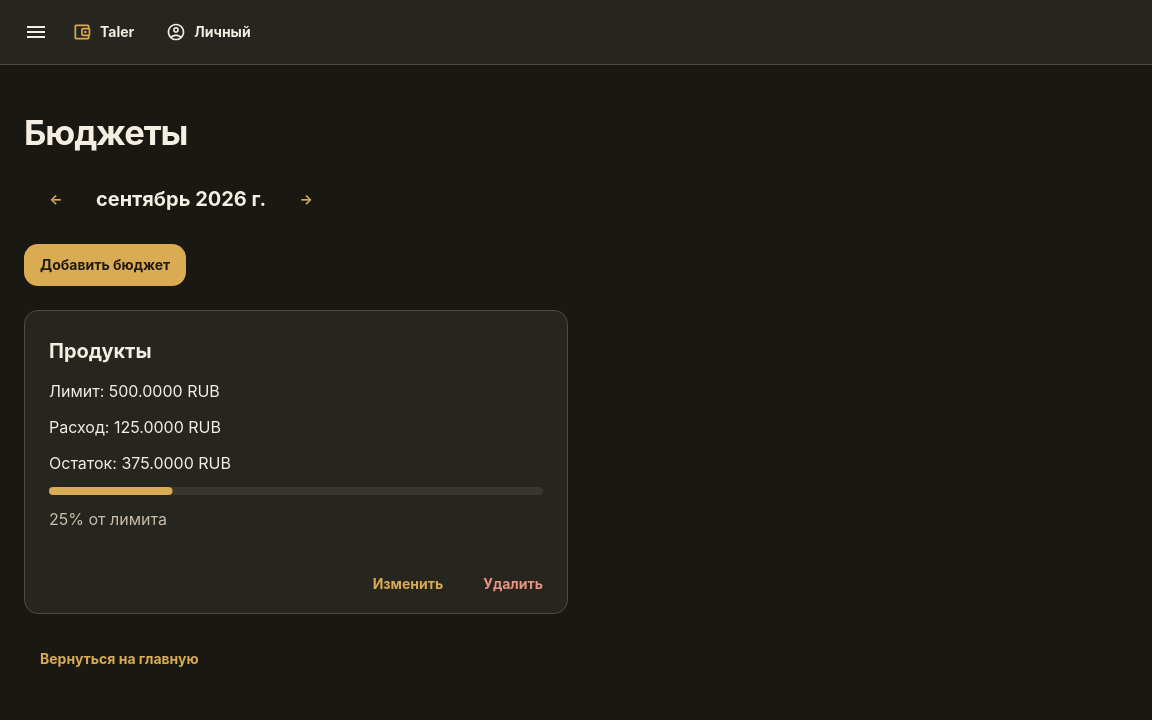
Test case: BudgetsPage › edits a budget and deletes it only after confirmation
The width and height of the screenshot is (1152, 720).
Click the button with aria-label "Изменить бюджет Продукты". click: coordinates (408, 584)
box: [357,563,459,605]
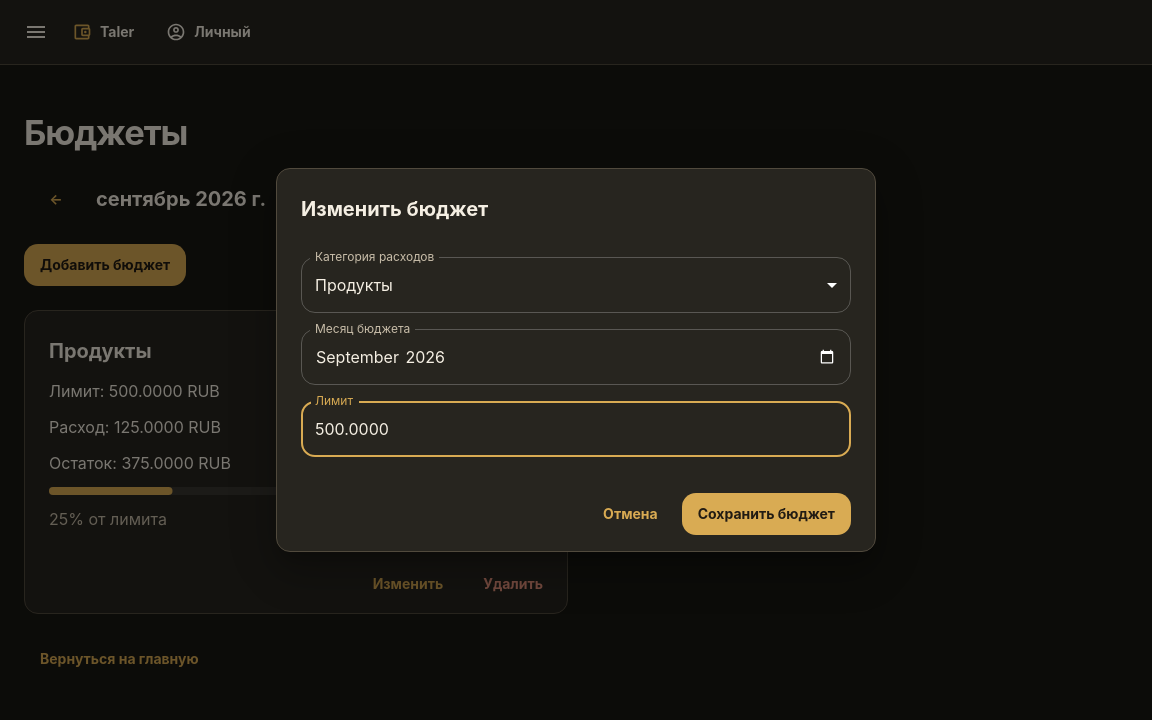
Replace the text in the field labelled "Лимит" with "600". click: coordinates (576, 429)
box: [301,401,851,457]
Click the button "Сохранить бюджет". click: coordinates (766, 514)
box: [682,493,851,535]
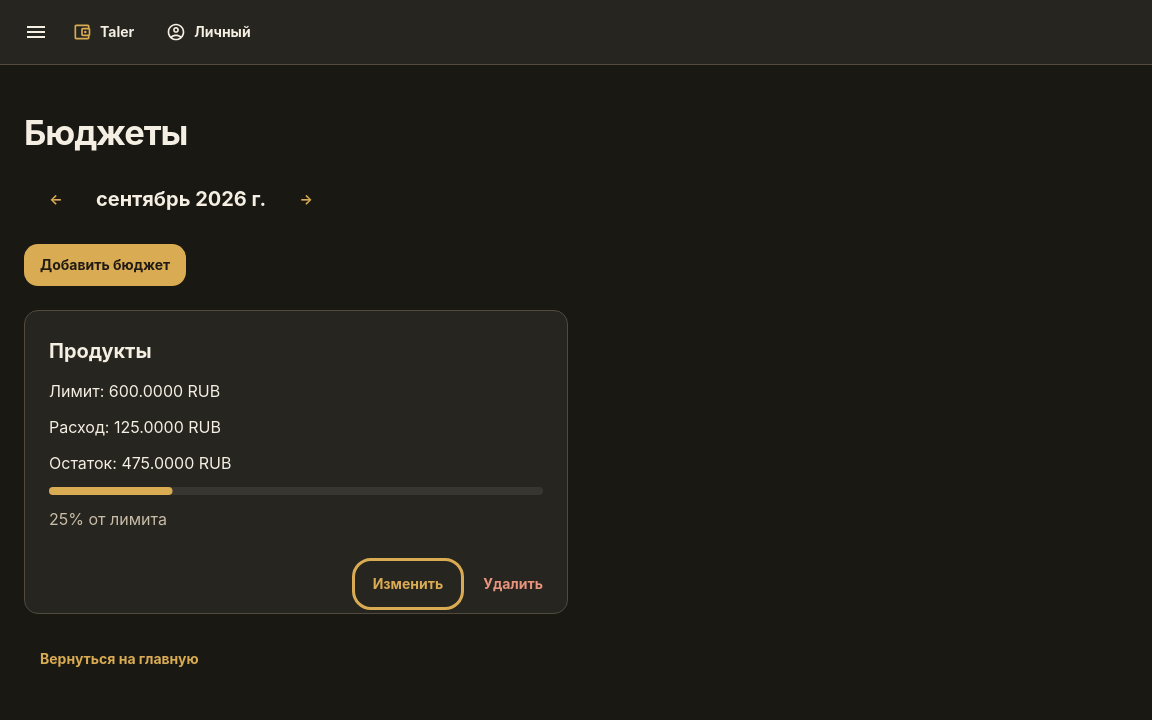
Expected: the text "Лимит: 600.0000 RUB" is shown, [49,381,220,401]
Click the button with aria-label "Удалить бюджет Продукты". click: coordinates (513, 584)
box: [467,563,559,605]
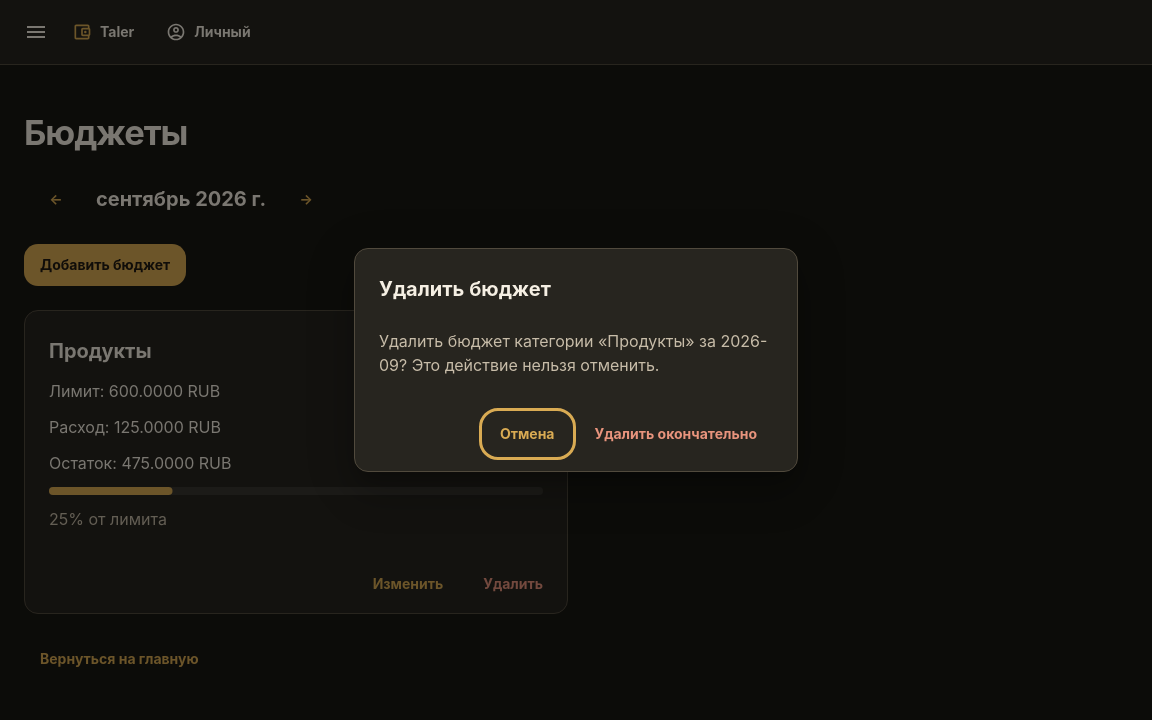
Expected: the dialog "Удалить бюджет" is shown, [354,248,798,472]
Click the button "Отмена". click: coordinates (527, 434)
box: [484,413,570,455]
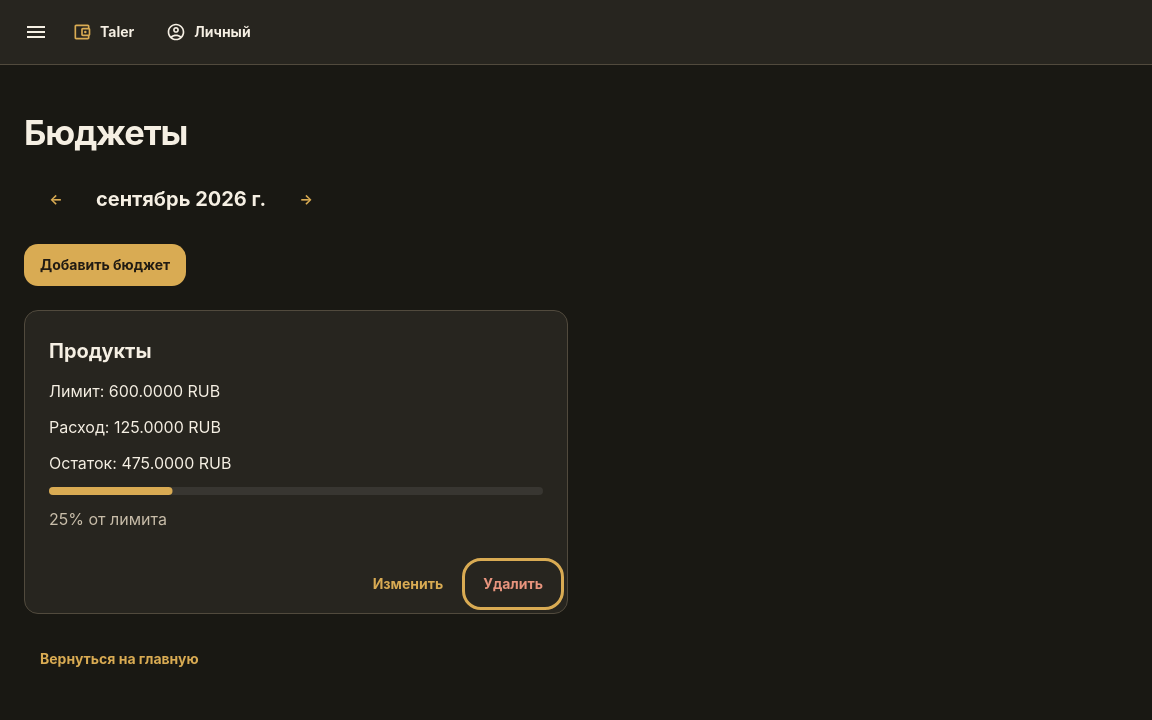
Click the button with aria-label "Удалить бюджет Продукты". click: coordinates (513, 584)
box: [467,563,559,605]
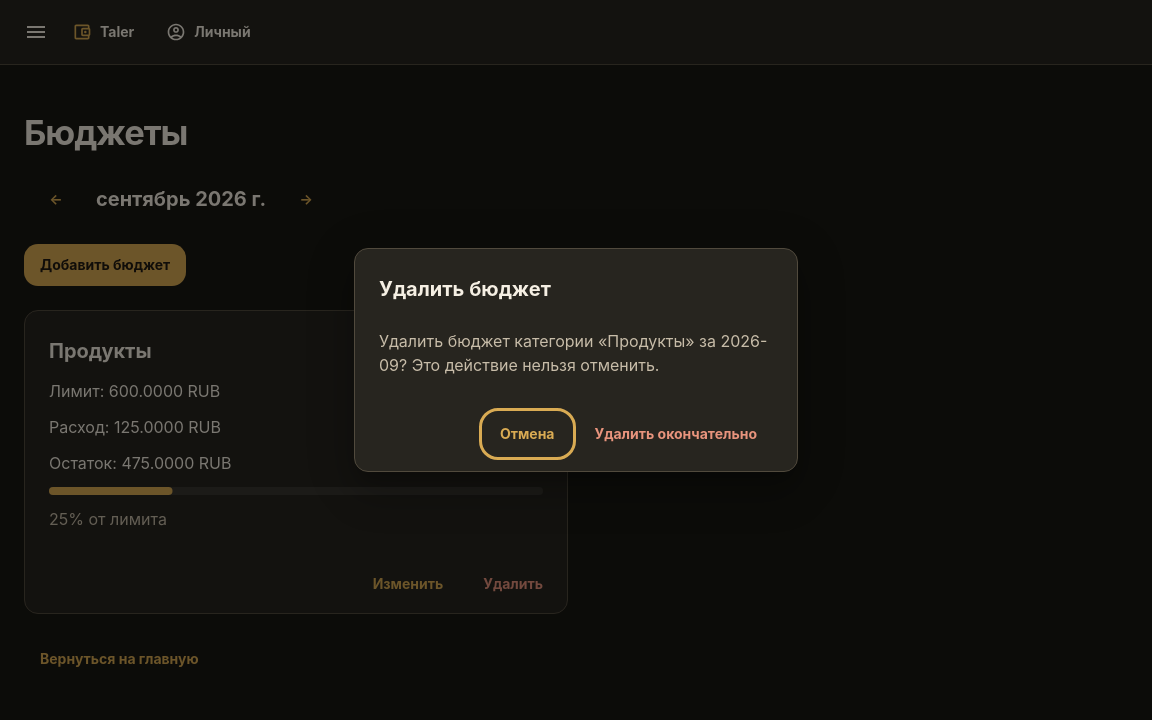
Click the button "Удалить окончательно". click: coordinates (676, 434)
box: [578,413,773,455]
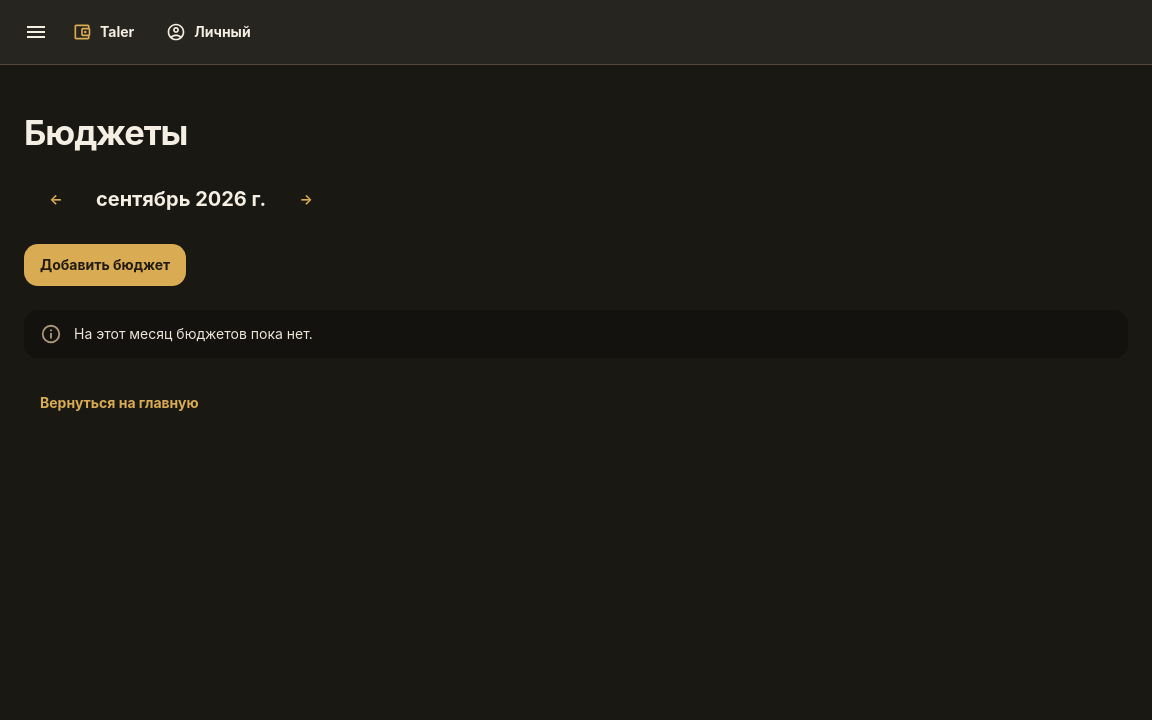
Expected: the text "На этот месяц бюджетов пока нет." is shown, [74,325,313,342]
